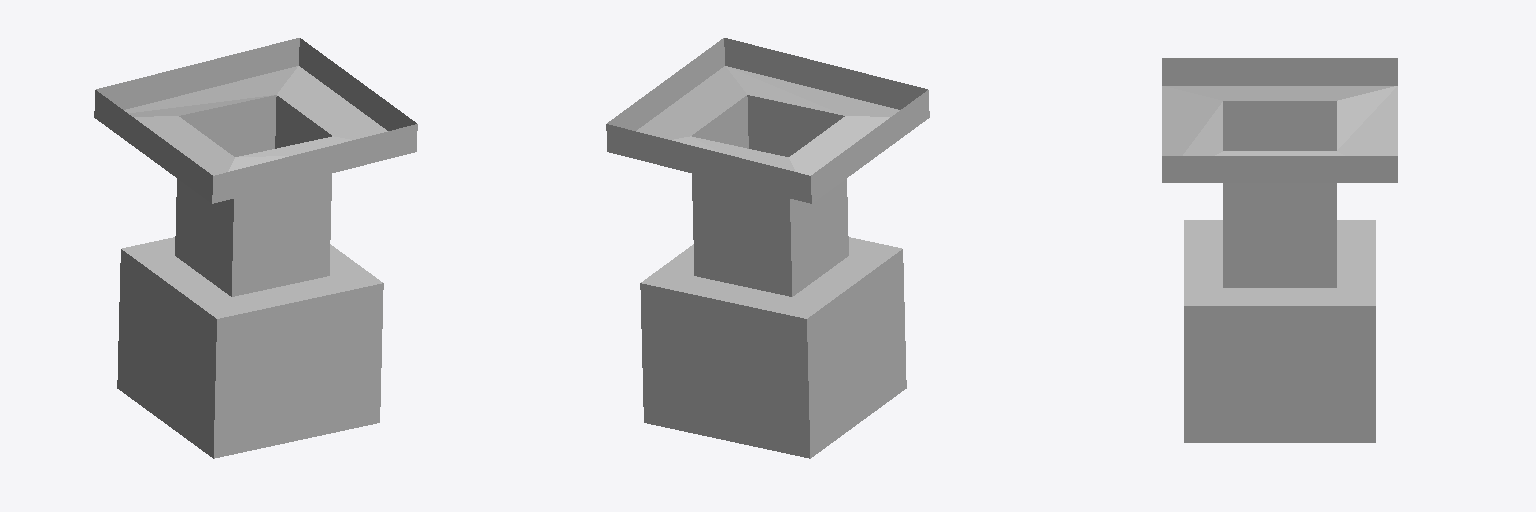
File: FM_ceiling_light.obj
The picture shows the model from 3 angles: view 1: azimuth 30°, elevation 25°; view 2: azimuth 150°, elevation 25°; view 3: azimuth 270°, elevation 25°; orthographic projection.
Visible parts, largest first — view 1: Ceiling_light_Cube.001; view 2: Ceiling_light_Cube.001; view 3: Ceiling_light_Cube.001.
Part boxes in pixels (left/top/right/bottom): Ceiling_light_Cube.001: left=94, top=38, right=417, bottom=458; Ceiling_light_Cube.001: left=606, top=38, right=929, bottom=458; Ceiling_light_Cube.001: left=1162, top=58, right=1397, bottom=442.
Bounding box in the file's own units: 0.2014 × 0.2811 × 0.2.